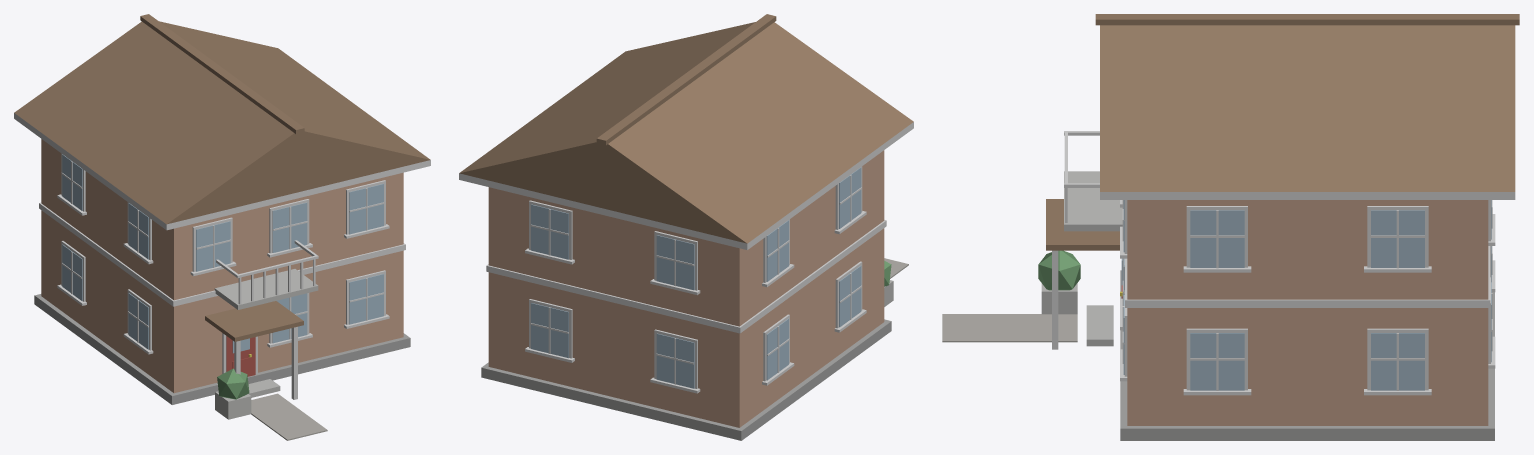
File: Villa_14.glb
3 renders of one model, left to right at view 1: azimuth 30°, elevation 25°; view 2: azimuth 150°, elevation 25°; view 3: azimuth 270°, elevation 25°, orthographic. The views are drawn at different scales.
Parts seen in each view (by area): view 1: Villa_14; view 2: Villa_14; view 3: Villa_14.
Boxes of the visible parts, x1,y1,x2,y2 form: Villa_14: (14,14,430,440); Villa_14: (459,14,913,440); Villa_14: (942,14,1519,440).
Bounding box in the file's own units: 9.2 × 8.44 × 12.8.
